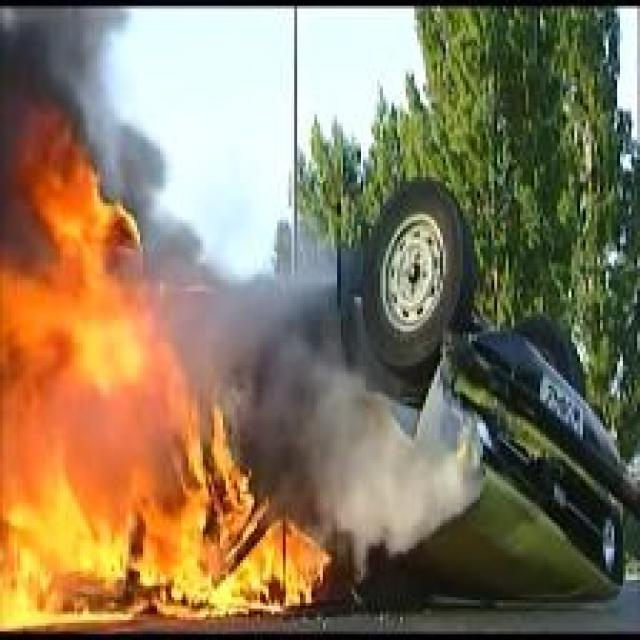Fire: (0, 101, 331, 629)
